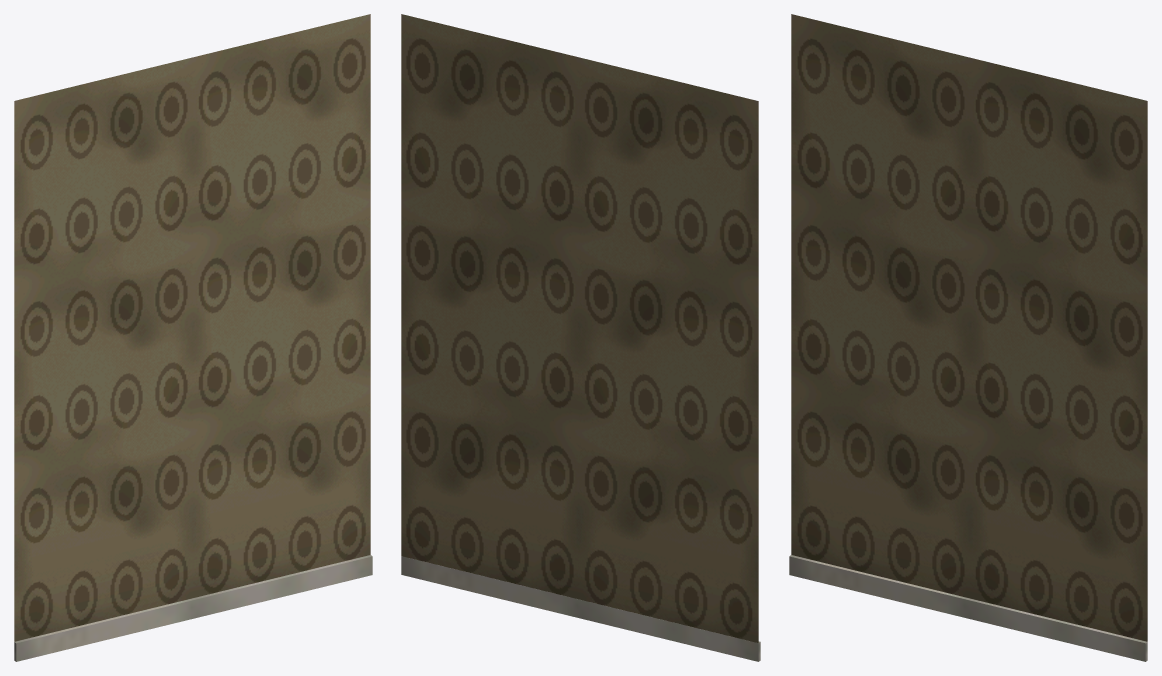
Rendered from wall_damask.fbx.
The picture shows the model from 3 angles, left to right: view 1: azimuth 30°, elevation 25°; view 2: azimuth 150°, elevation 25°; view 3: azimuth 330°, elevation 25°; orthographic projection.
Visible parts, largest first — view 1: wall_damask; view 2: wall_damask; view 3: wall_damask.
Boxes of the visible parts, x1,y1,x2,y2 form: wall_damask: [14, 14, 372, 661]; wall_damask: [401, 14, 760, 661]; wall_damask: [789, 14, 1147, 661].
Size of the model in its own units: 2 by 3 by 0.02.
1 material, 1 textured.
